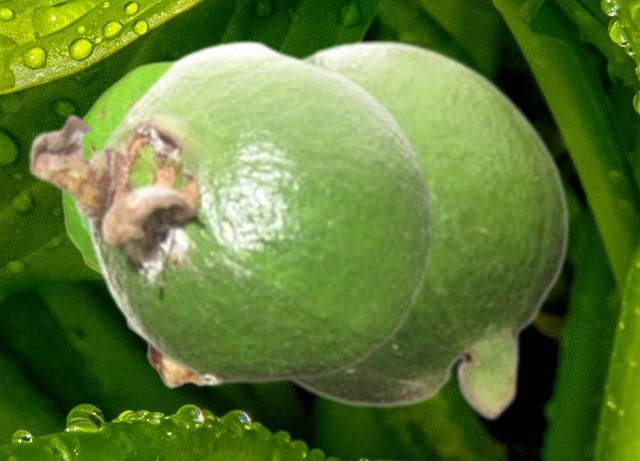guava: (26, 38, 436, 386), (293, 37, 569, 422), (60, 59, 203, 388)
